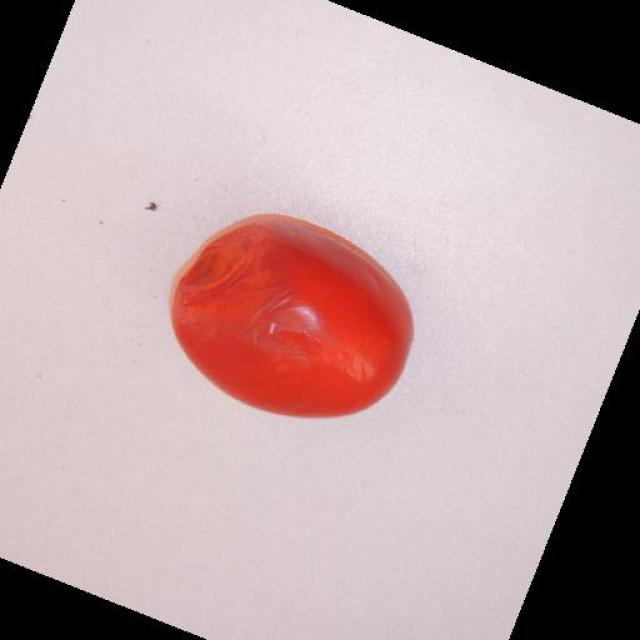Stale_tomato: (180, 186, 430, 424)
